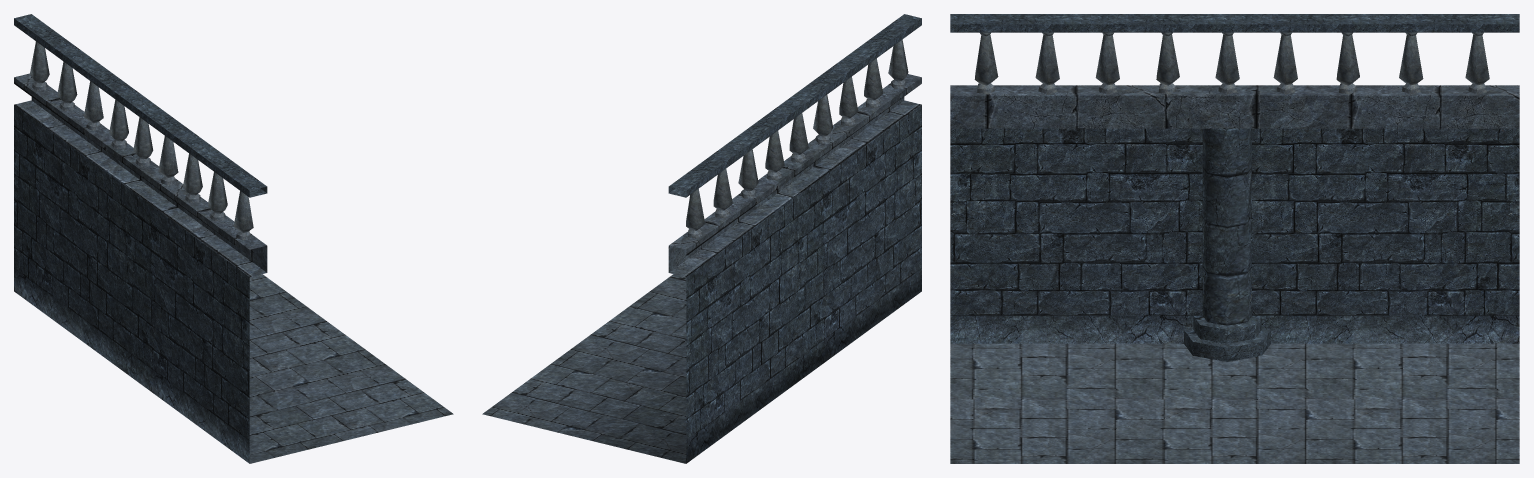
File: DownFloor_middle.FBX
3 renders of one model, left to right at view 1: azimuth 30°, elevation 25°; view 2: azimuth 150°, elevation 25°; view 3: azimuth 270°, elevation 25°, orthographic. The views are drawn at different scales.
Visible parts, largest first — view 1: DownFloor_middle; view 2: DownFloor_middle; view 3: DownFloor_middle.
Boxes of the visible parts, bbox=[...] form: DownFloor_middle: bbox=[14, 14, 453, 463]; DownFloor_middle: bbox=[482, 14, 921, 463]; DownFloor_middle: bbox=[950, 14, 1519, 463].
Size of the model in its own units: 45.93 by 58.73 by 91.85.
Materials: 4 (4 with a texture image).
